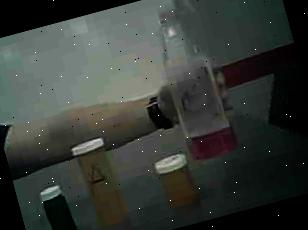Bottle A: (61, 126, 142, 230)
Bottle B: (144, 146, 204, 219)
Bottle C: (31, 176, 87, 230)
hazard: (144, 0, 251, 170)
